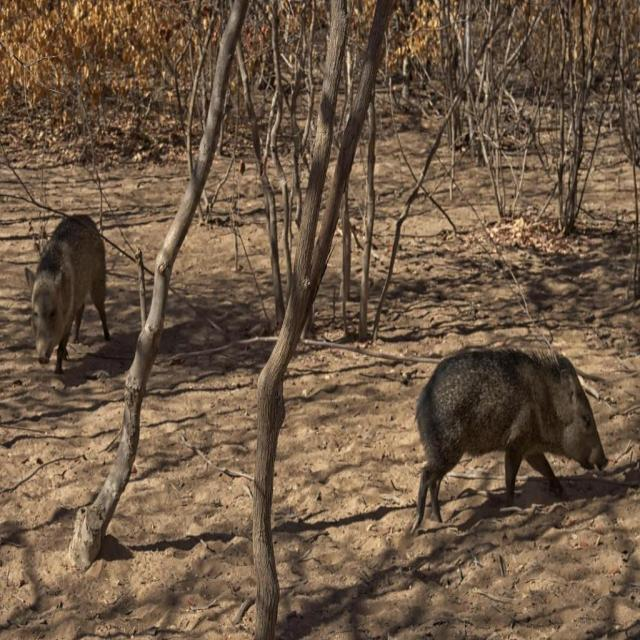Pig: (408, 344, 607, 533), (23, 209, 112, 378)
